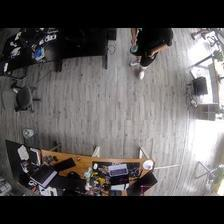normal: (128, 28, 174, 80)
